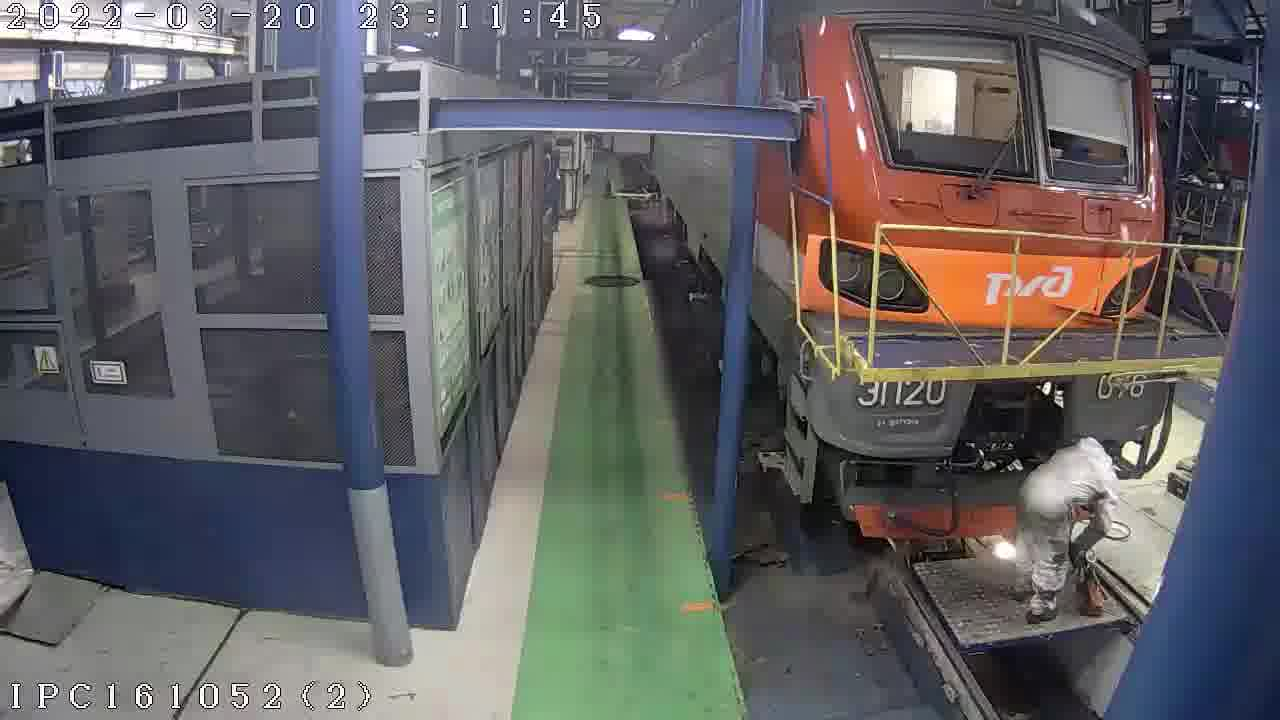train: (1003, 433, 1127, 626)
worker: (645, 0, 1248, 543)
